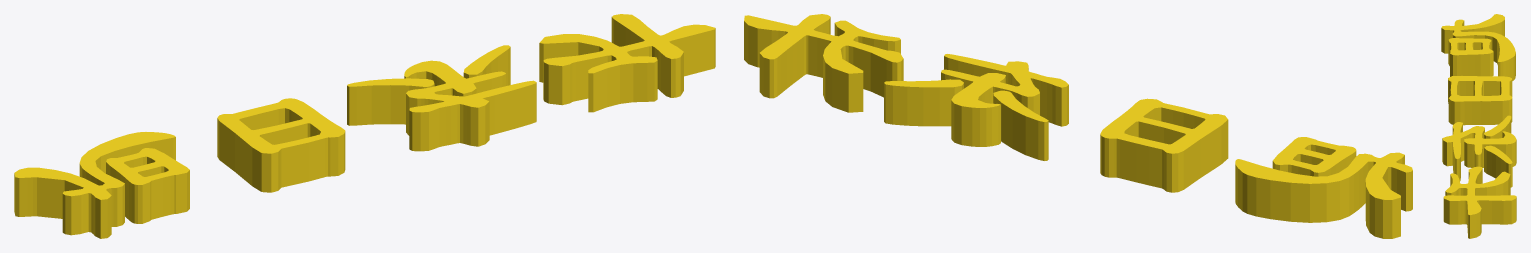
File: xuri.obj
3 views of the same model, side by side, from view 1: azimuth 30°, elevation 25°; view 2: azimuth 150°, elevation 25°; view 3: azimuth 270°, elevation 25° (orthographic). The views are drawn at different scales.
Visible parts, largest first — view 1: obj_0; view 2: obj_0; view 3: obj_0.
Boxes of the visible parts, left/top/right/bottom form: obj_0: left=14, top=14, right=715, bottom=238; obj_0: left=744, top=14, right=1412, bottom=238; obj_0: left=1441, top=14, right=1516, bottom=238.
Bounding box in the file's own units: 182 × 10 × 28.73.
